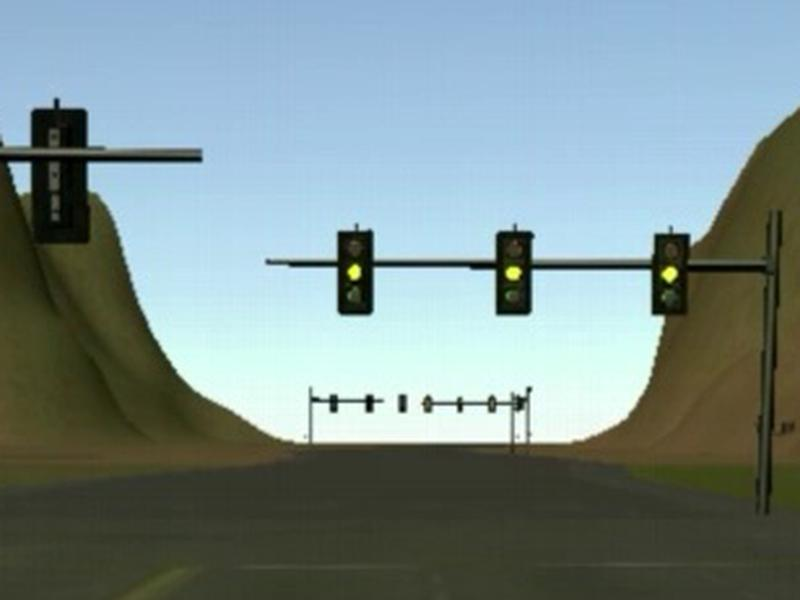Yellow: (495, 229, 534, 315), (651, 233, 688, 316), (339, 228, 372, 314)
